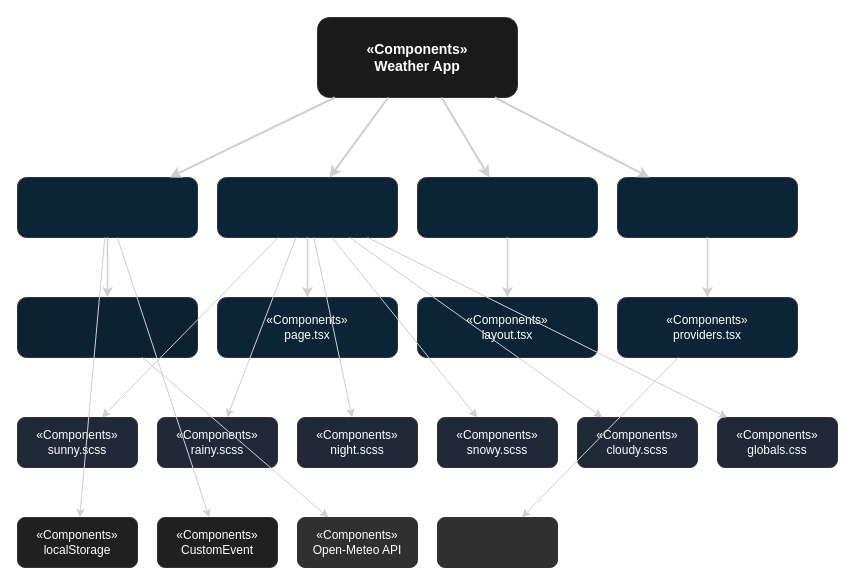
This 855x585 diagram has some shape labels left out. Here are the shapes that lost their labels. From the top down, the centre of each, then its label:
pixel 107 207: «Components» WeatherContext.tsx
pixel 307 207: «Components» GlobalWeatherTheme.tsx
pixel 507 207: «Components» WeatherEffects.tsx
pixel 707 207: «Components» WeatherWidget.tsx
pixel 107 327: «Components» weather/route.ts
pixel 497 542: «Components» WebSocket
